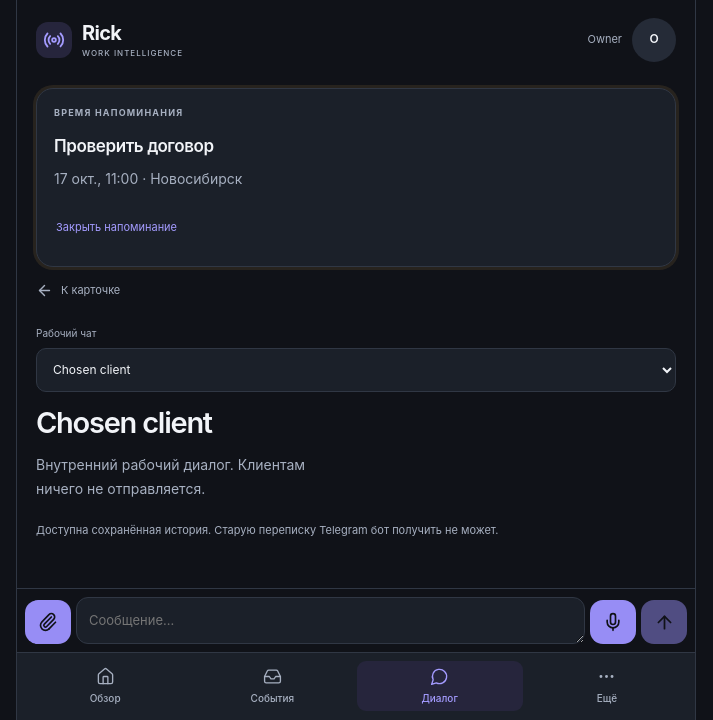
Test case: reports foreground presence and shows due reminder inside matching rick chat
expect the message is shown: met, box [36, 88, 676, 267]
expect the heading "Проверить договор" is shown: met, box [54, 136, 214, 156]
Click the button "Ещё" at coordinates (607, 686), box [524, 661, 690, 711]
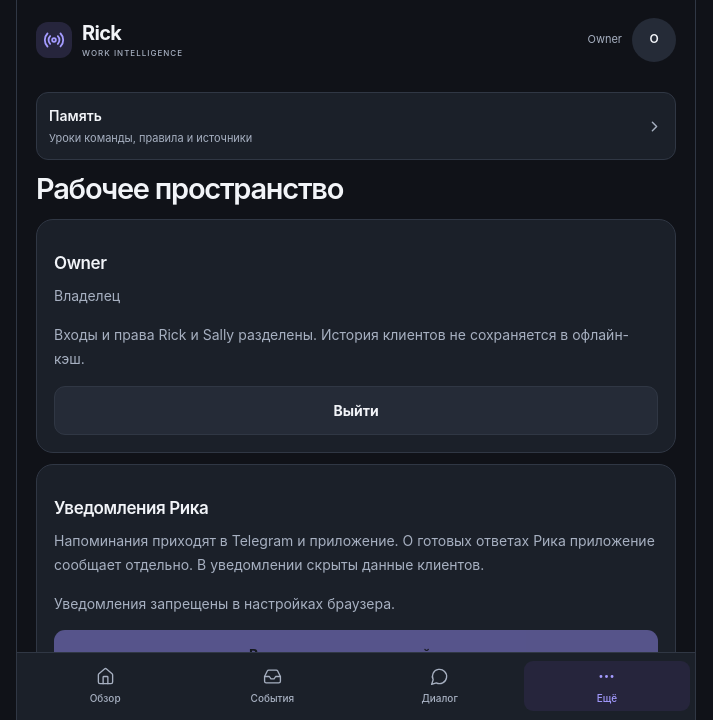
expect the heading "Проверить договор" is gone: met
